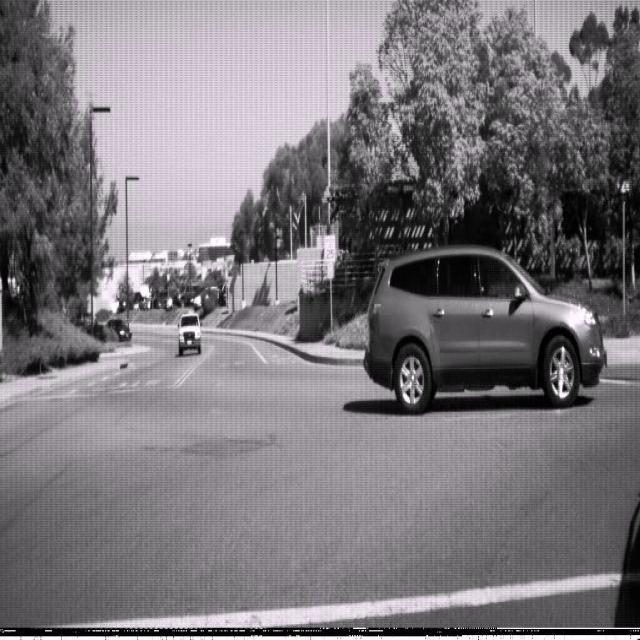speedLimit25: (324, 234, 335, 261)
